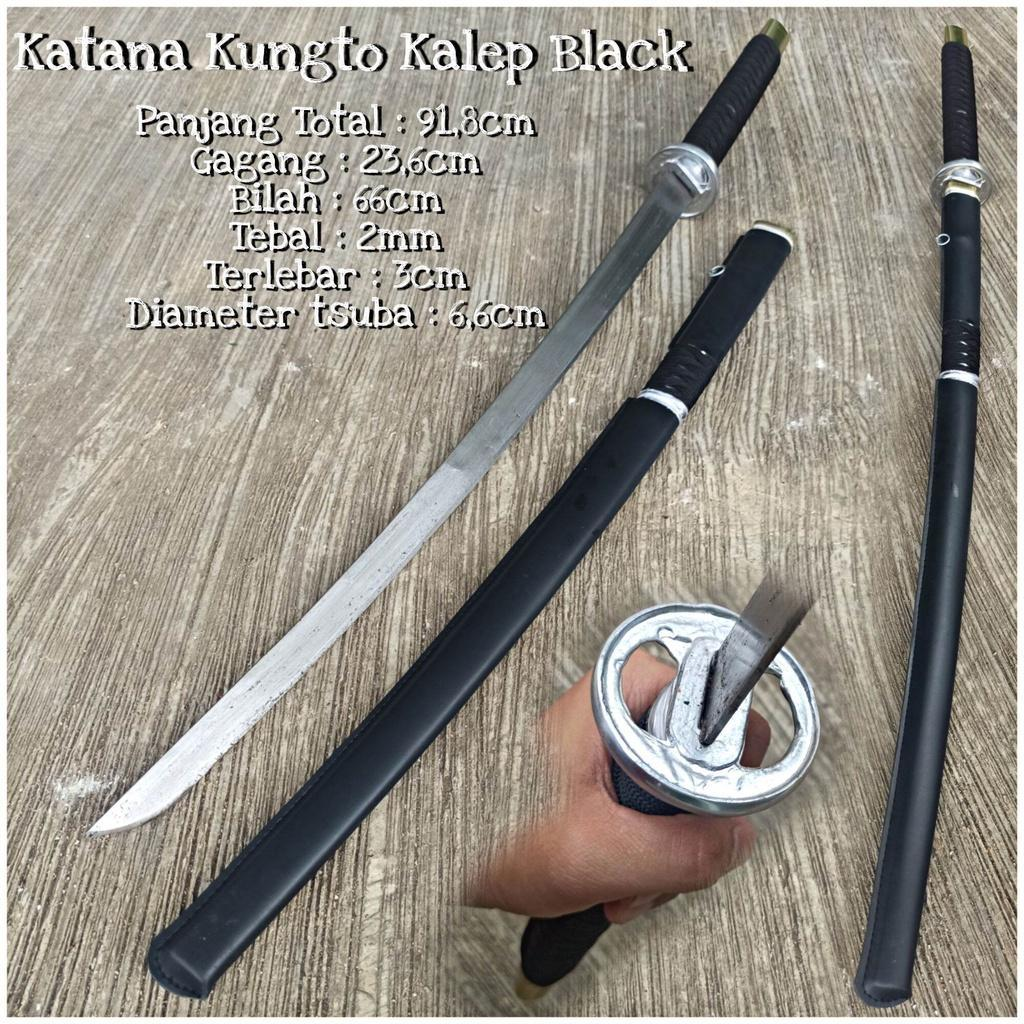espada: (70, 15, 800, 862), (835, 23, 1003, 998)
